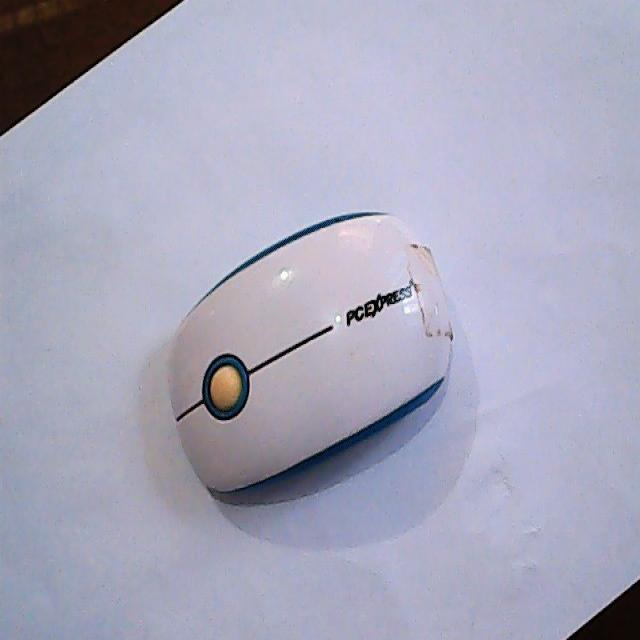Mouse: (167, 209, 456, 498)
